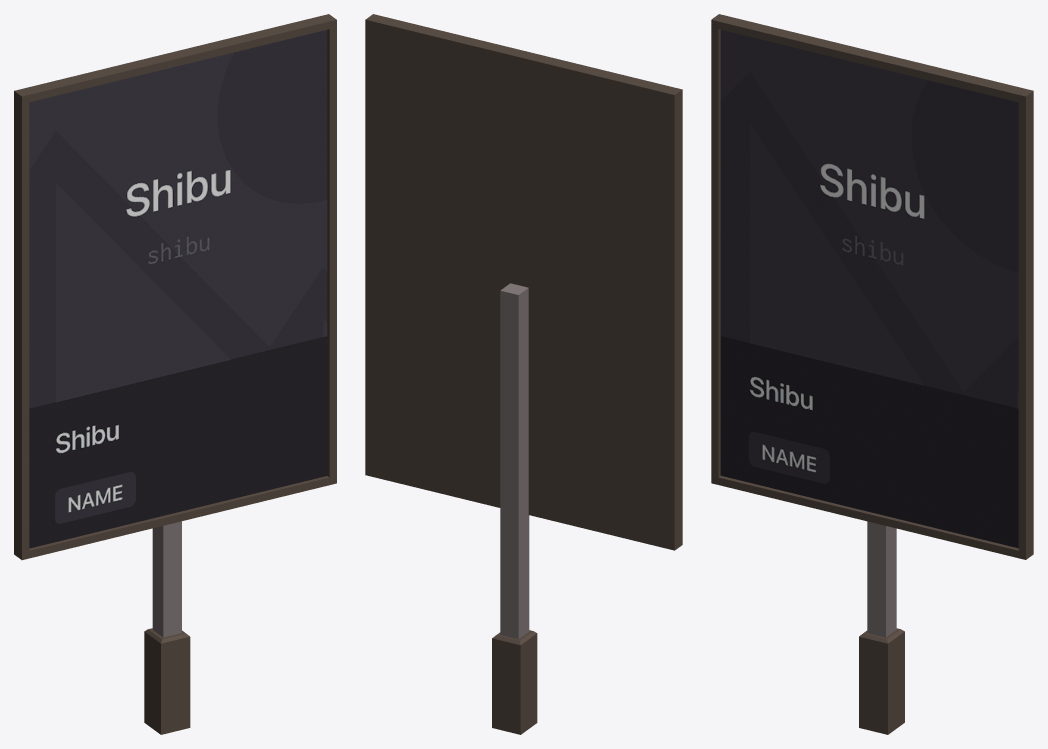
File: names.glb
3 views of the same model, side by side, from view 1: azimuth 30°, elevation 25°; view 2: azimuth 150°, elevation 25°; view 3: azimuth 330°, elevation 25° (orthographic).
Parts seen in each view (by area): view 1: names; view 2: names; view 3: names.
Part boxes in pixels (x1=…): names: x1=14, y1=14, x2=336, y2=734; names: x1=365, y1=14, x2=682, y2=734; names: x1=711, y1=14, x2=1033, y2=734.
Size of what is drawn, in the model's own units: 2.38 by 4.89 by 0.2778.
2 materials, 2 textured.
